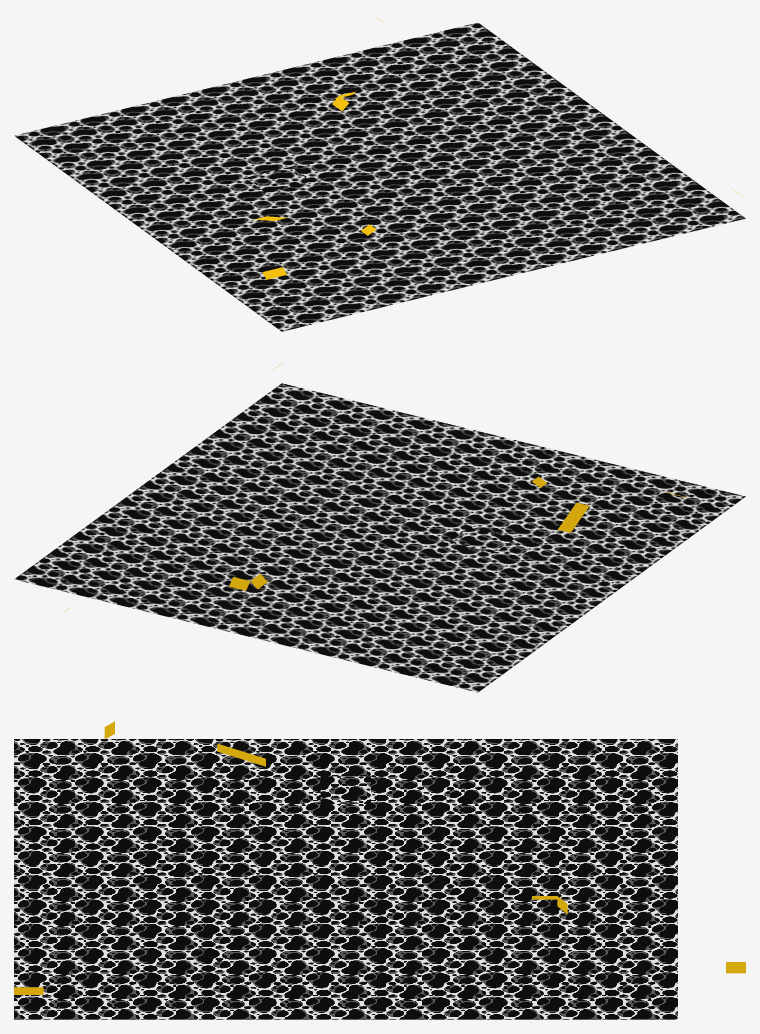
The picture shows the model from 3 angles, top to bottom: view 1: azimuth 30°, elevation 25°; view 2: azimuth 150°, elevation 25°; view 3: azimuth 270°, elevation 25°; orthographic projection. The views are drawn at different scales.
Visible parts, largest first — view 1: polygon117.004, polygon119.004; view 2: polygon117.004, polygon119.004; view 3: polygon117.004, polygon119.004.
Boxes of the visible parts, <box> form: polygon117.004: <box>14,22,745,331</box>; polygon119.004: <box>254,15,741,279</box>; polygon117.004: <box>14,383,745,692</box>; polygon119.004: <box>63,362,687,612</box>; polygon117.004: <box>14,739,677,1019</box>; polygon119.004: <box>14,721,745,994</box>.
Bounding box in the file's own units: 65273 × 4378 × 71939.
Materials: 2 (2 with a texture image).
